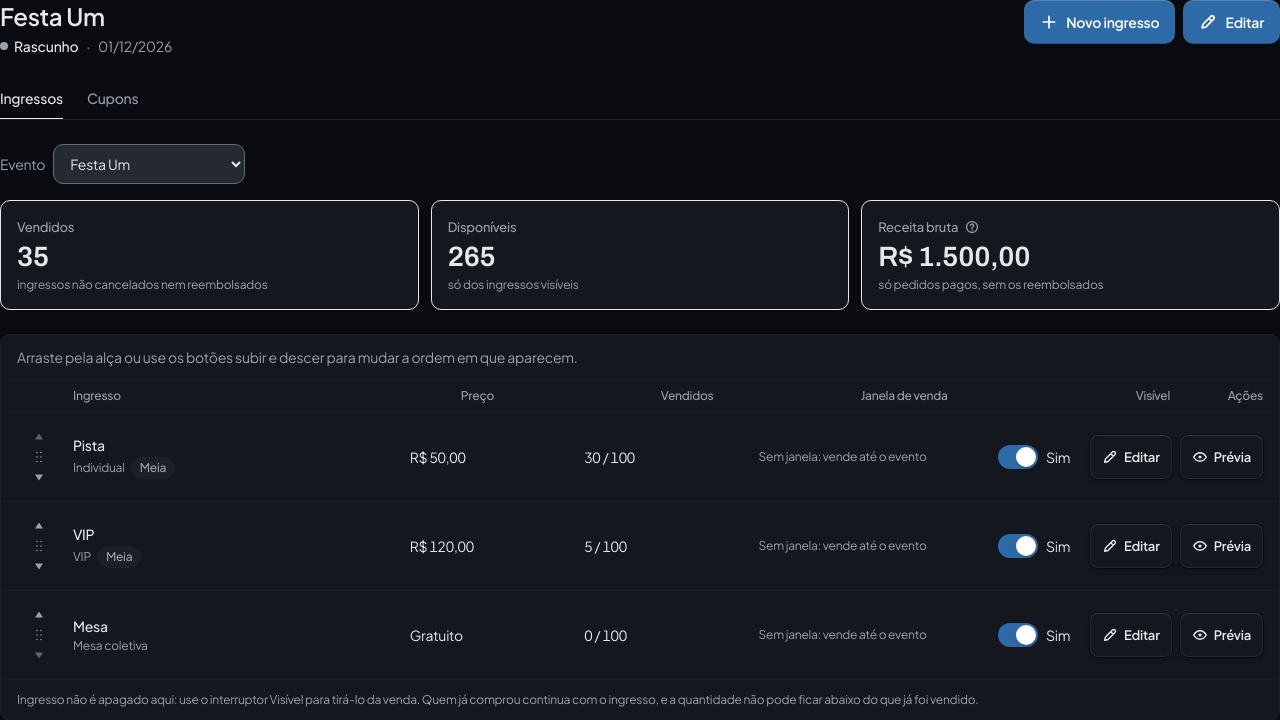
Test: tela Ingressos › editar sem mexer no preço grava direto (sem confirmação)
What coordinates should you click on to do the following:
click the button with aria-label "Editar VIP"
I would click on:
 (1131, 546)
Its box is [1090,524,1172,568].
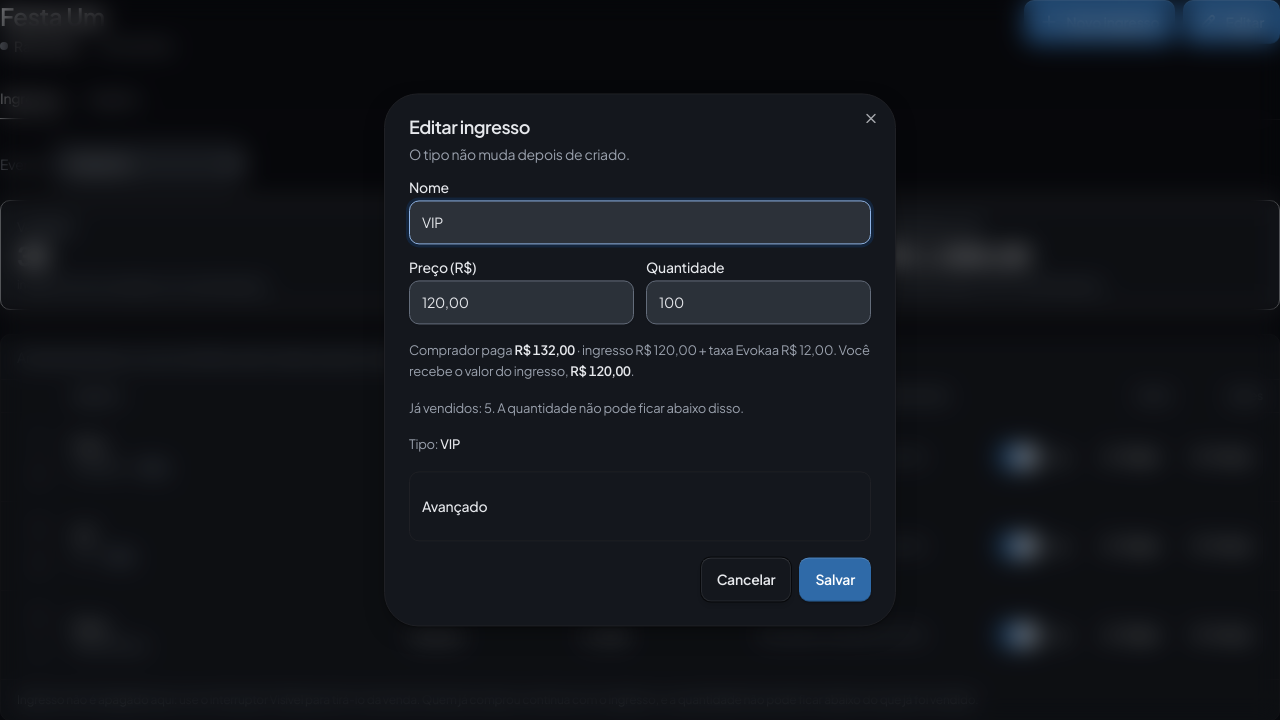
What coordinates should you click on to do the following:
click the button "Salvar"
I would click on:
 (835, 580)
Its box is [799,558,871,602].
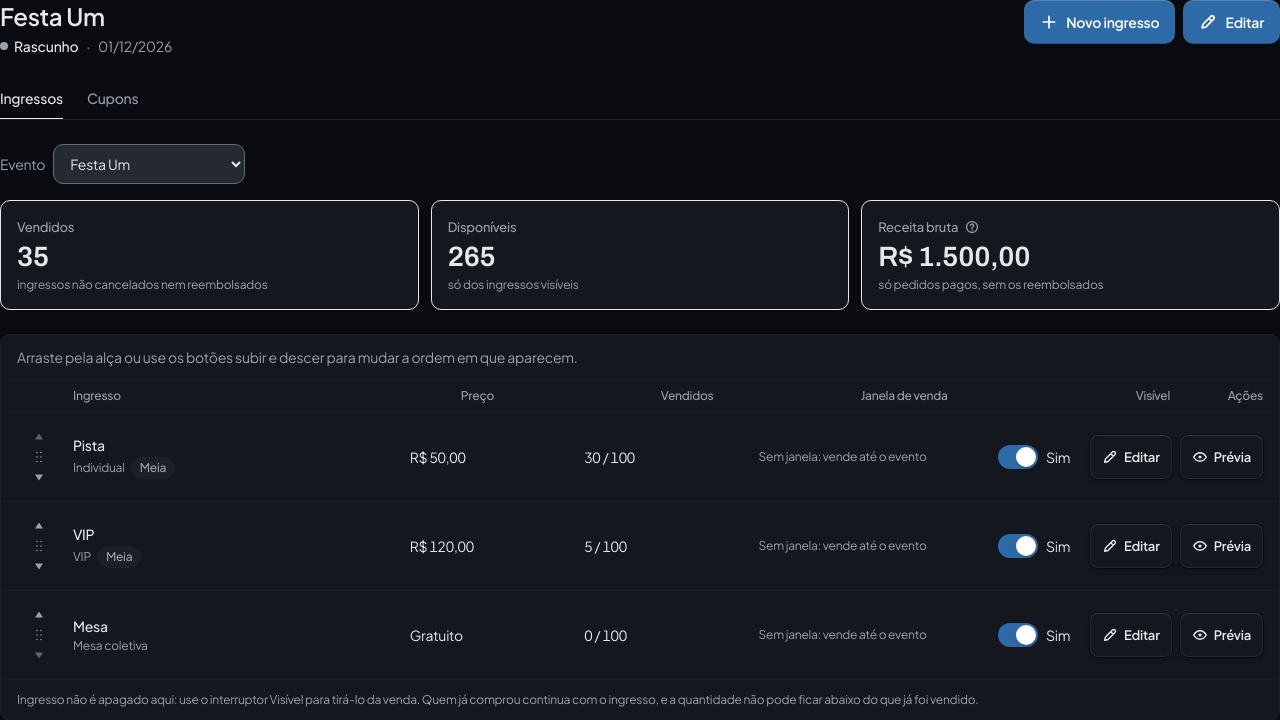
Expected: the dialog is gone
